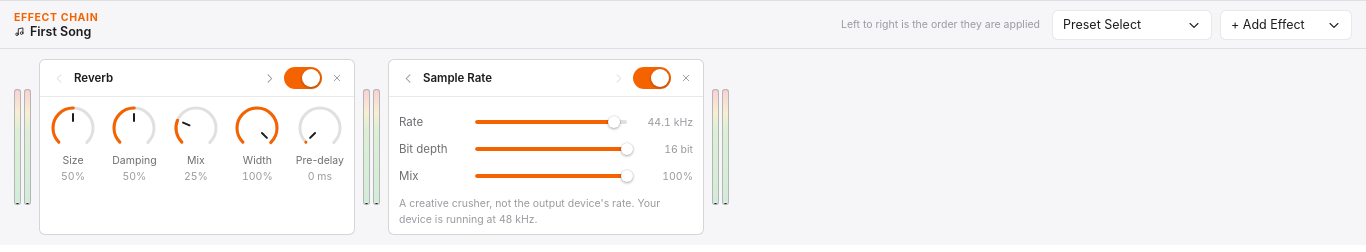
it: BlockEffectsRack › takes a device off the block when it is removed
Click the button named "Remove Reverb from this block".
click(337, 78)  # box [326,65,348,91]
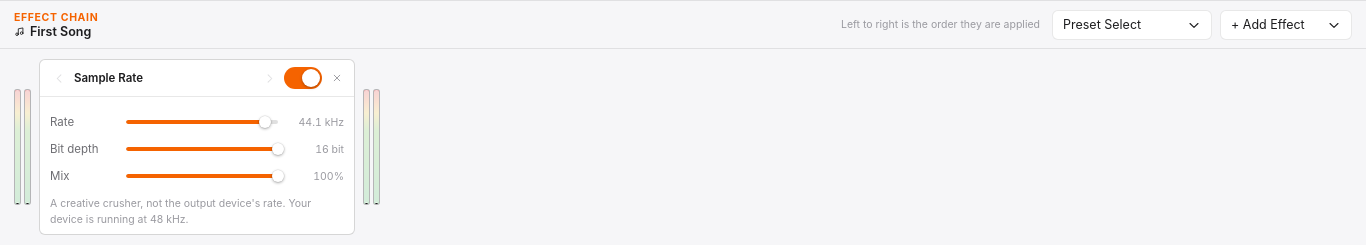
Now the elements with class "rack__device-name" read "Sample Rate", in this order, box [74,71,143,85]
